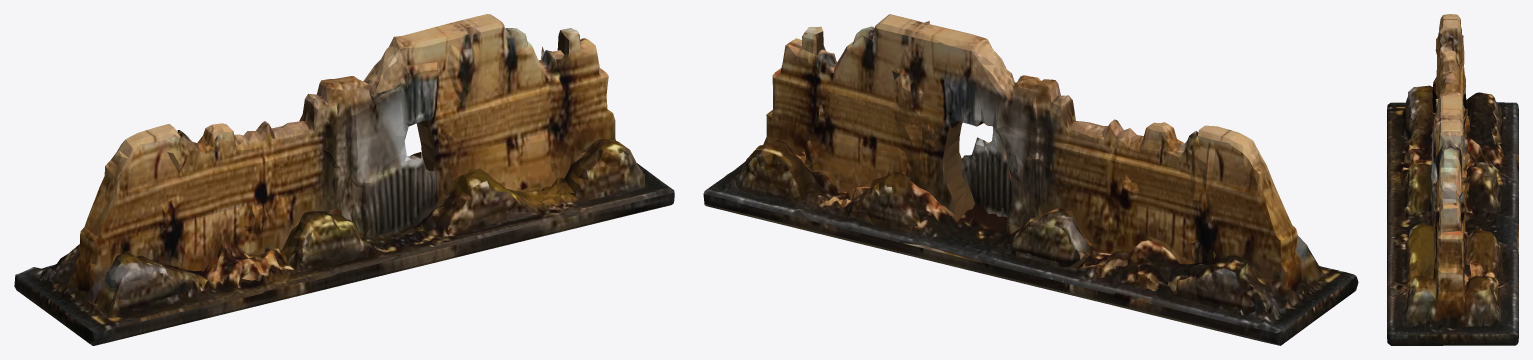
File: temple-carved-wall.glb
3 renders of one model, left to right at view 1: azimuth 30°, elevation 25°; view 2: azimuth 150°, elevation 25°; view 3: azimuth 270°, elevation 25°, orthographic. The views are drawn at different scales.
Visible parts, largest first — view 1: tmpj66j1wu6.ply; view 2: tmpj66j1wu6.ply; view 3: tmpj66j1wu6.ply.
Boxes of the visible parts, x1,y1,x2,y2 form: tmpj66j1wu6.ply: (14, 14, 674, 345); tmpj66j1wu6.ply: (703, 14, 1358, 345); tmpj66j1wu6.ply: (1387, 14, 1518, 345).
Size of the model in its own units: 5 by 1.6 by 1.2.
Materials: 1 (1 with a texture image).
